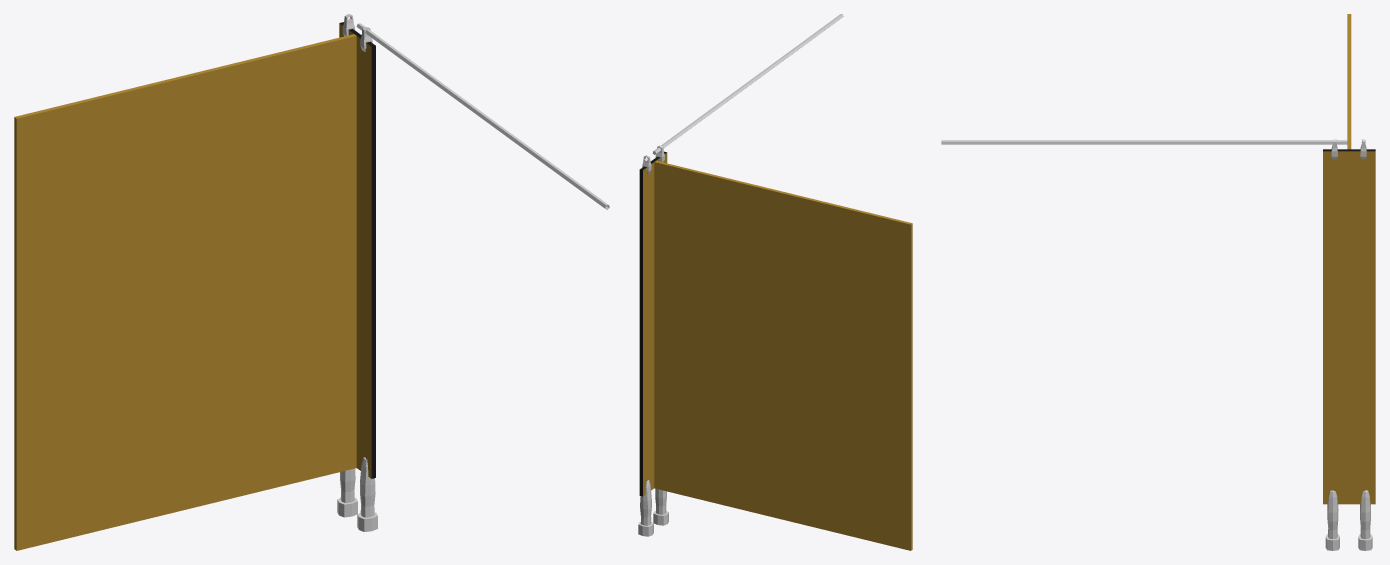
File: Int_ShowerPartition01.fbx
The picture shows the model from 3 angles, left to right: view 1: azimuth 30°, elevation 25°; view 2: azimuth 150°, elevation 25°; view 3: azimuth 270°, elevation 25°; orthographic projection. The views are drawn at different scales.
Parts seen in each view (by area): view 1: Int_ShowerPartition01; view 2: Int_ShowerPartition01; view 3: Int_ShowerPartition01.
Boxes of the visible parts, x1,y1,x2,y2 form: Int_ShowerPartition01: [14, 14, 609, 550]; Int_ShowerPartition01: [638, 14, 912, 550]; Int_ShowerPartition01: [941, 14, 1375, 550].
Size of what is drawn, in the model's own units: 204 by 267 by 277.
